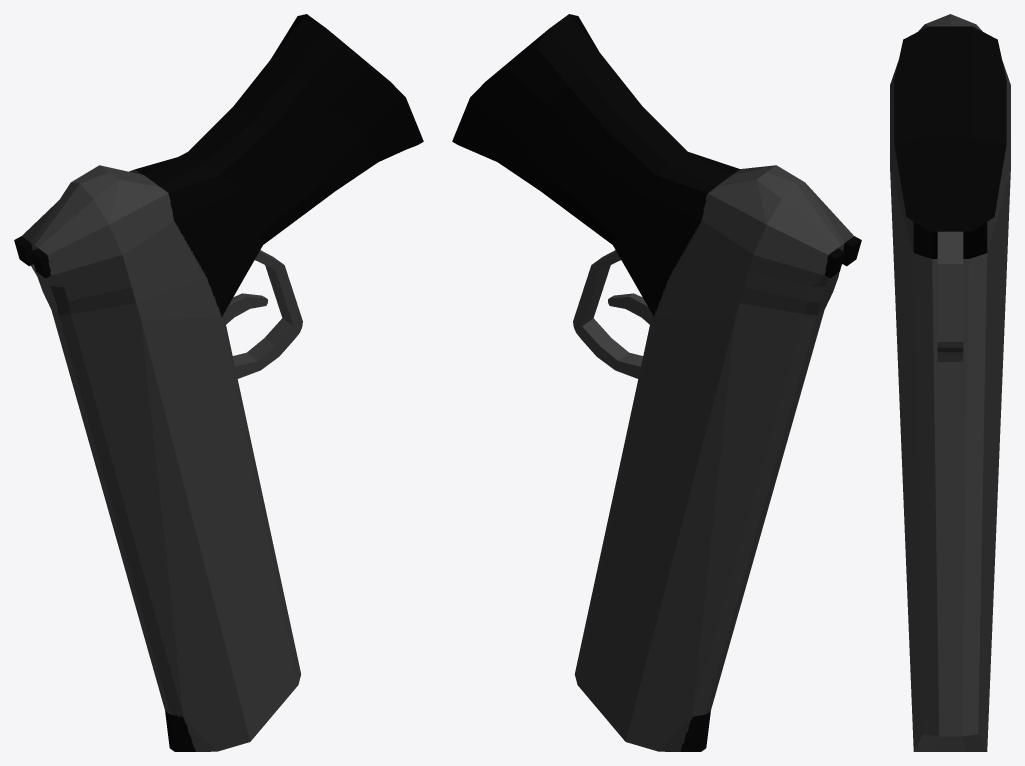
File: gun-anim-fix-attempt-1.glb
The picture shows the model from 3 angles, left to right: view 1: azimuth 30°, elevation 25°; view 2: azimuth 150°, elevation 25°; view 3: azimuth 270°, elevation 25°; orthographic projection. The views are drawn at different scales.
Parts seen in each view (by area): view 1: Cube, Cube.003, Cube.002; view 2: Cube, Cube.003, Cube.002; view 3: Cube, Cube.003.
Part boxes in pixels (box(x1,y1,x2,y2)): Cube: box(14, 14, 423, 751); Cube.003: box(232, 250, 302, 378); Cube.002: box(223, 293, 267, 324); Cube: box(452, 14, 861, 751); Cube.003: box(573, 250, 643, 378); Cube.002: box(608, 293, 652, 324); Cube: box(890, 14, 1010, 751); Cube.003: box(937, 231, 963, 362).
Size of the model in its own units: 11.16 by 19.53 by 2.74.
Materials: 2 (2 with a texture image).
